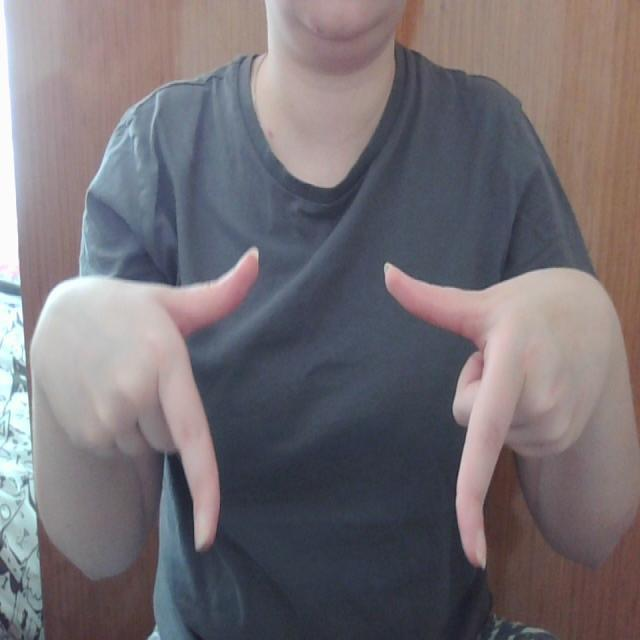Nerede: (153, 241, 529, 574)
